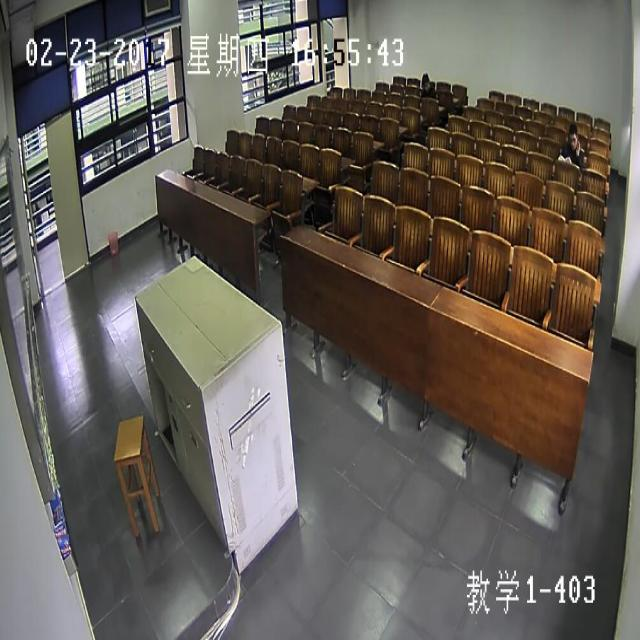person: (420, 69, 430, 89), (568, 124, 577, 146)
